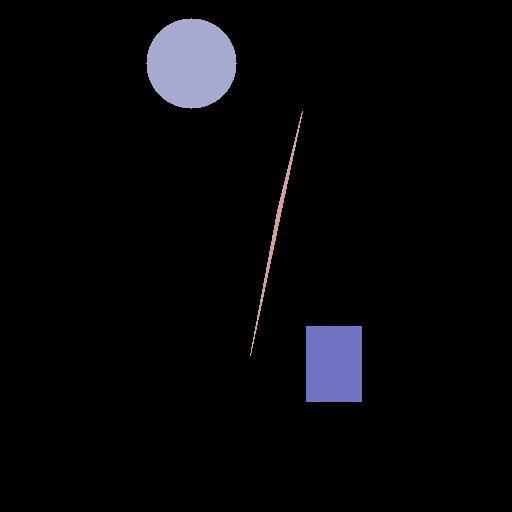circle: (146, 18, 236, 108)
rectangle: (306, 326, 361, 401)
